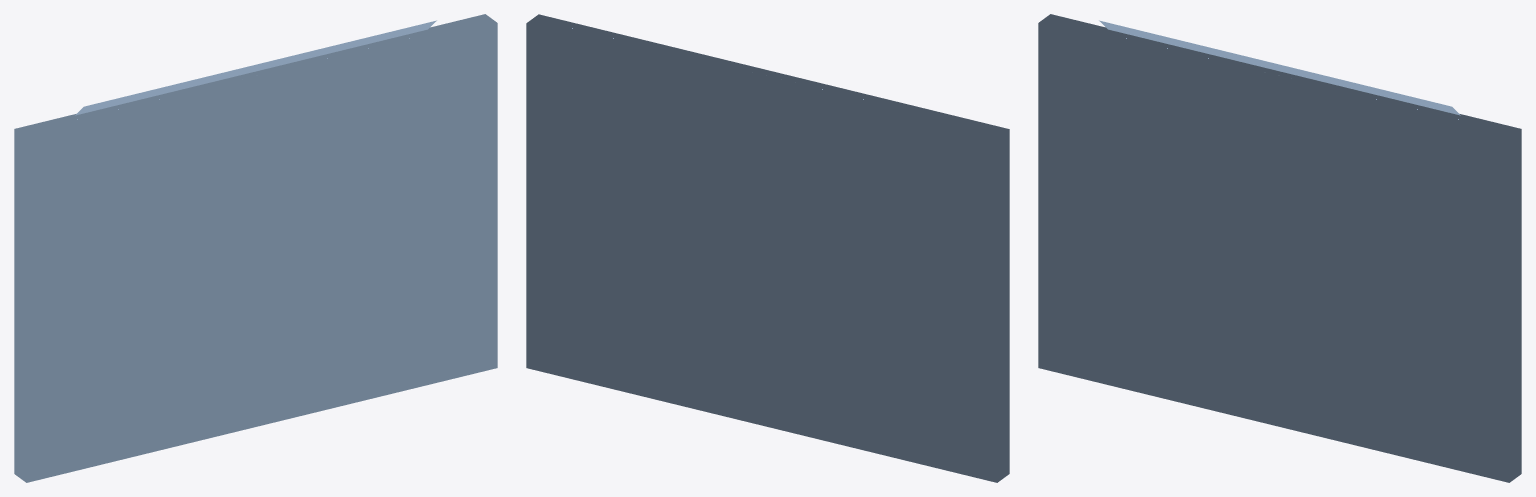
File: trap_t12_electric_fence.glb
The picture shows the model from 3 angles, left to right: view 1: azimuth 30°, elevation 25°; view 2: azimuth 150°, elevation 25°; view 3: azimuth 330°, elevation 25°; orthographic projection.
Visible parts, largest first — view 1: trap_t12_electric_fence; view 2: trap_t12_electric_fence; view 3: trap_t12_electric_fence.
Part boxes in pixels (x1,y1,x2,y2): trap_t12_electric_fence: (14,14,497,482); trap_t12_electric_fence: (526,14,1009,482); trap_t12_electric_fence: (1038,14,1521,482).
Size of the model in its own units: 4 by 2.93 by 0.18.
